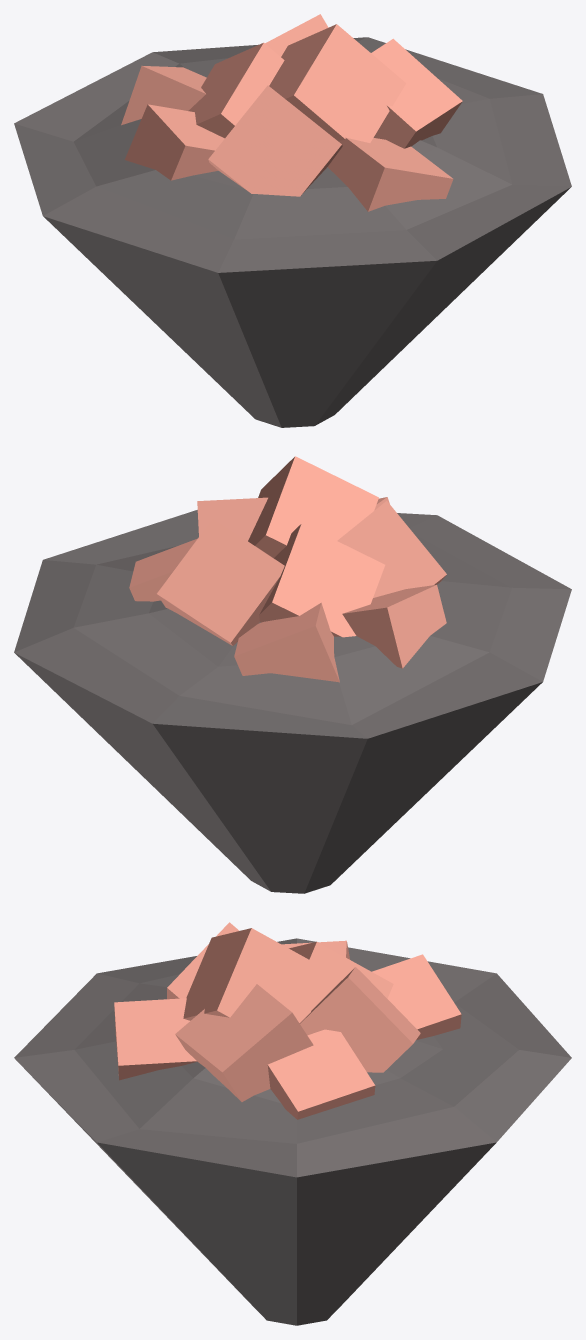
File: Iron.fbx
3 views of the same model, one above another, from view 1: azimuth 30°, elevation 25°; view 2: azimuth 150°, elevation 25°; view 3: azimuth 270°, elevation 25° (orthographic). The views are drawn at different scales.
Parts seen in each view (by area): view 1: Iron_ore; view 2: Iron_ore; view 3: Iron_ore.
Part boxes in pixels (x1,y1,x2,y2): Iron_ore: (14,14,571,427); Iron_ore: (14,456,571,893); Iron_ore: (14,922,571,1325).
Bounding box in the file's own units: 80 × 60.82 × 78.91.
